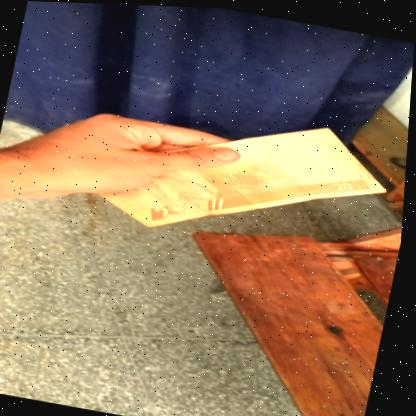twenty-back-vef: (89, 85, 401, 265)
